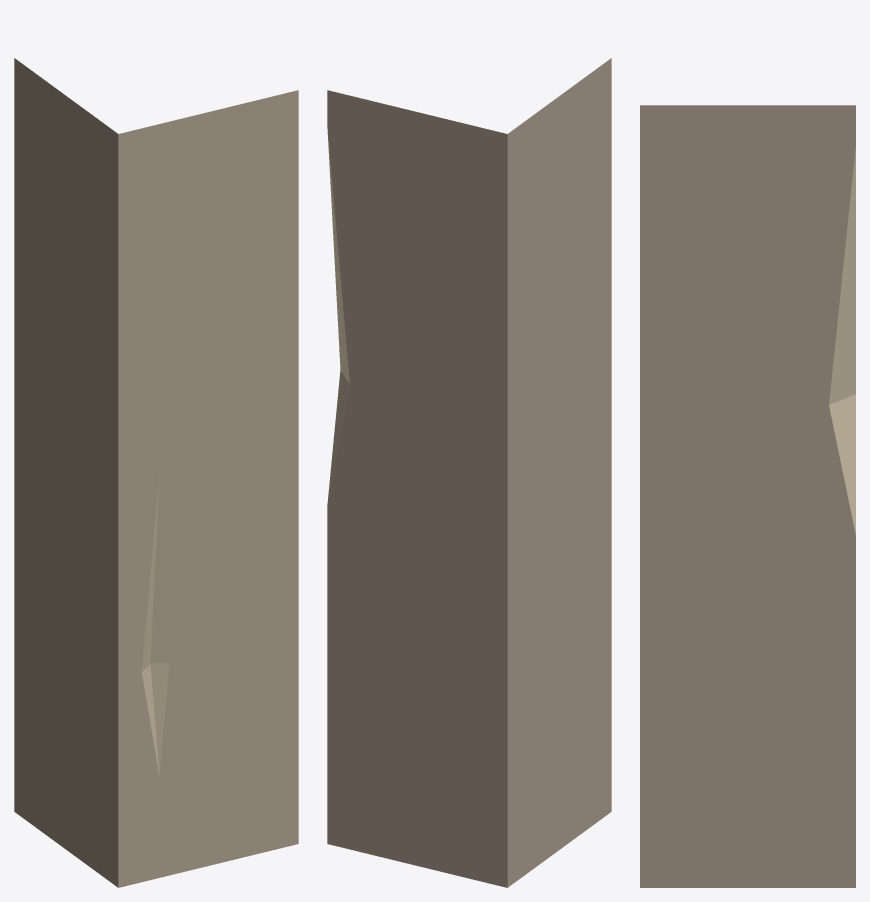
Rendered from Cave_Prop_Support_Wall_Pillar_2.glb.
3 views of the same model, side by side, from view 1: azimuth 30°, elevation 25°; view 2: azimuth 150°, elevation 25°; view 3: azimuth 270°, elevation 25° (orthographic). The views are drawn at different scales.
Visible parts, largest first — view 1: Cave_Prop_Support_Wall_Pillar_2; view 2: Cave_Prop_Support_Wall_Pillar_2; view 3: Cave_Prop_Support_Wall_Pillar_2.
Part boxes in pixels (left/top/right/bottom): Cave_Prop_Support_Wall_Pillar_2: left=14, top=58, right=298, bottom=887; Cave_Prop_Support_Wall_Pillar_2: left=327, top=58, right=611, bottom=887; Cave_Prop_Support_Wall_Pillar_2: left=640, top=105, right=855, bottom=887.
Size of the model in its own units: 0.25 by 1 by 0.25.
